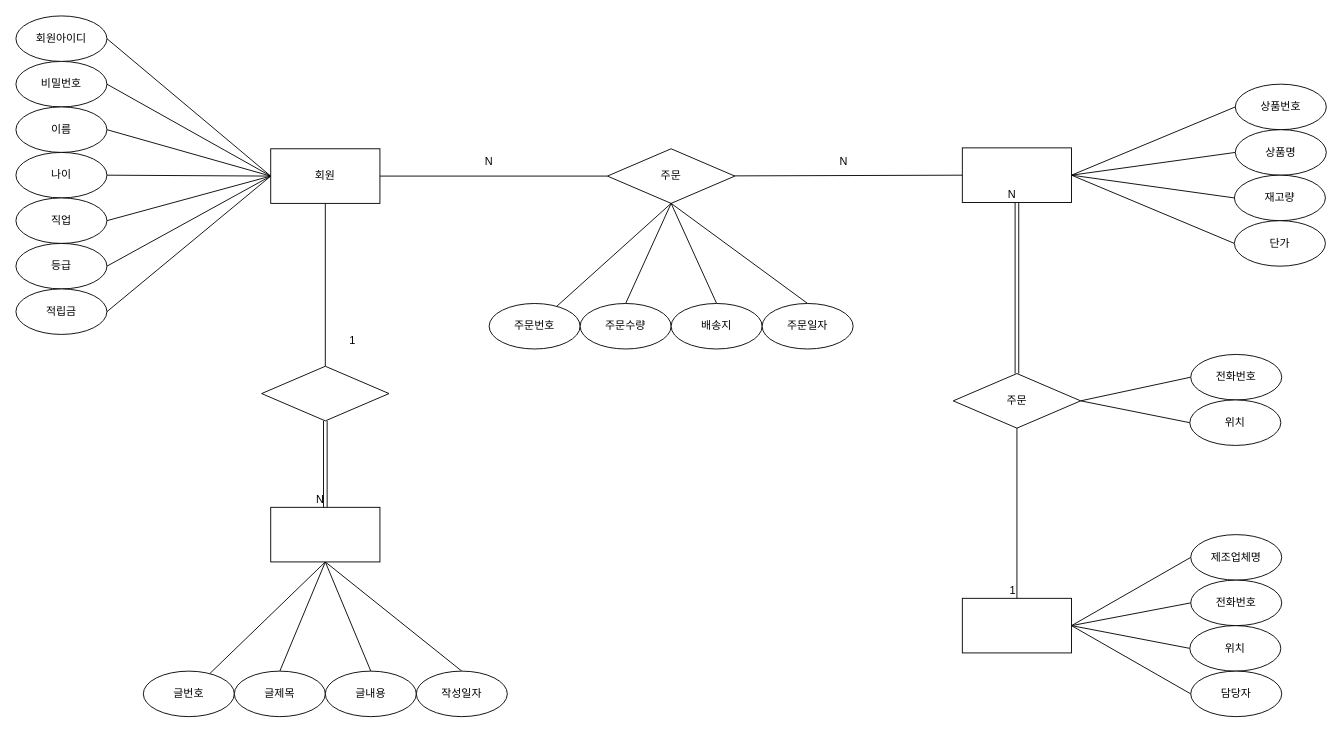
Some shapes in this 1342 by 733 pixel diagram are drawn without their labels. Each missing label, with the centre of its shape:
"게시글" goes at (325,534).
"상품" goes at (1016,174).
"작성" goes at (325,393).
"제조업체" goes at (1016,625).
